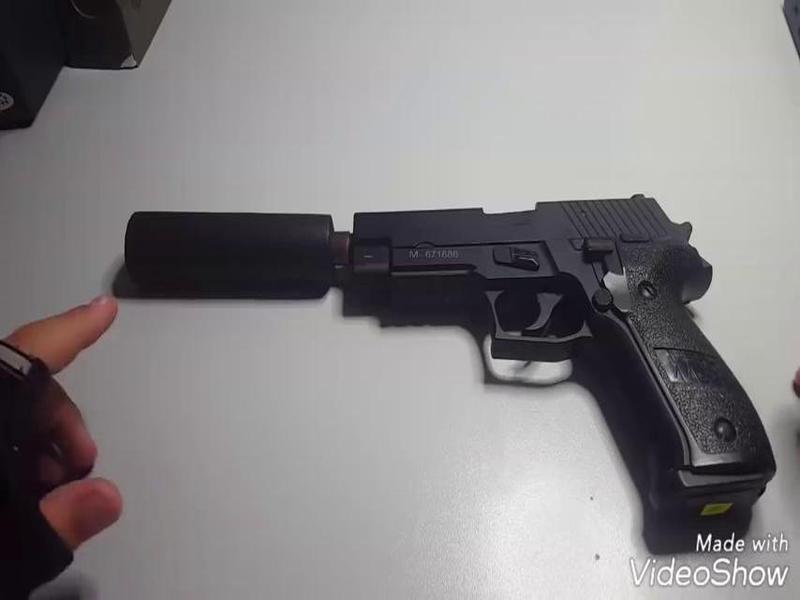Pistola: (342, 188, 784, 523)
